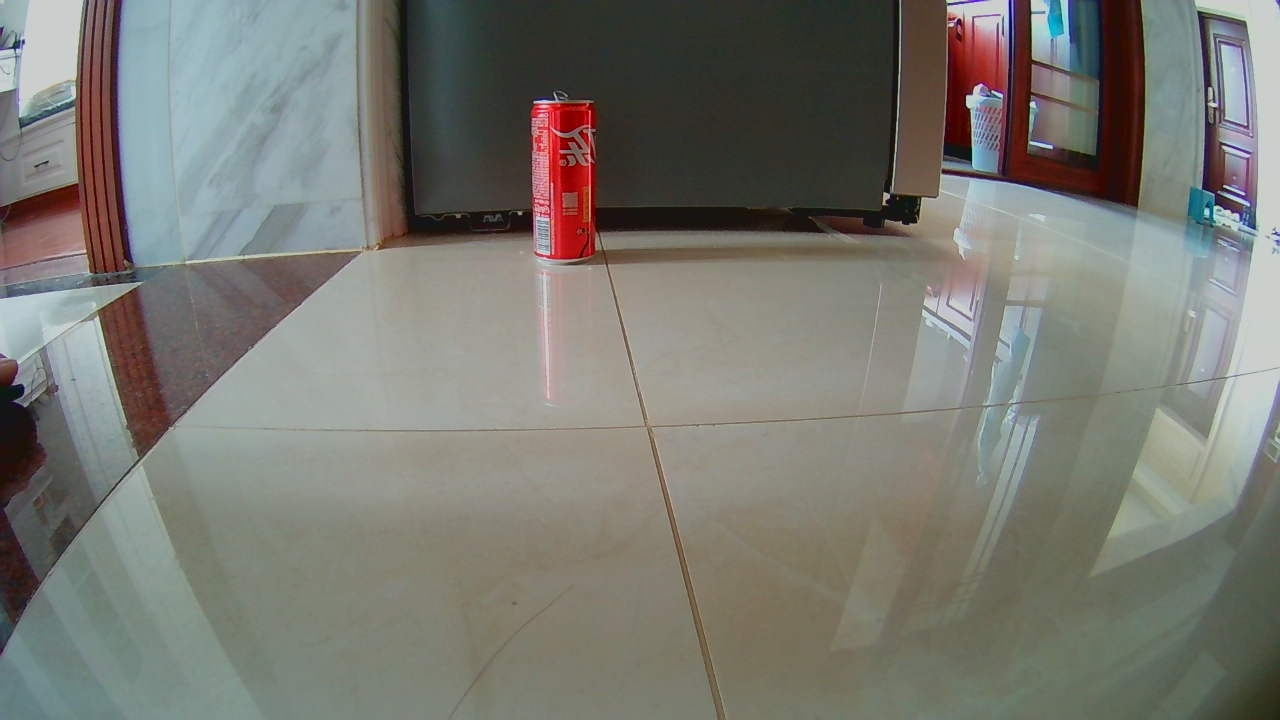cola: (529, 98, 600, 267)
